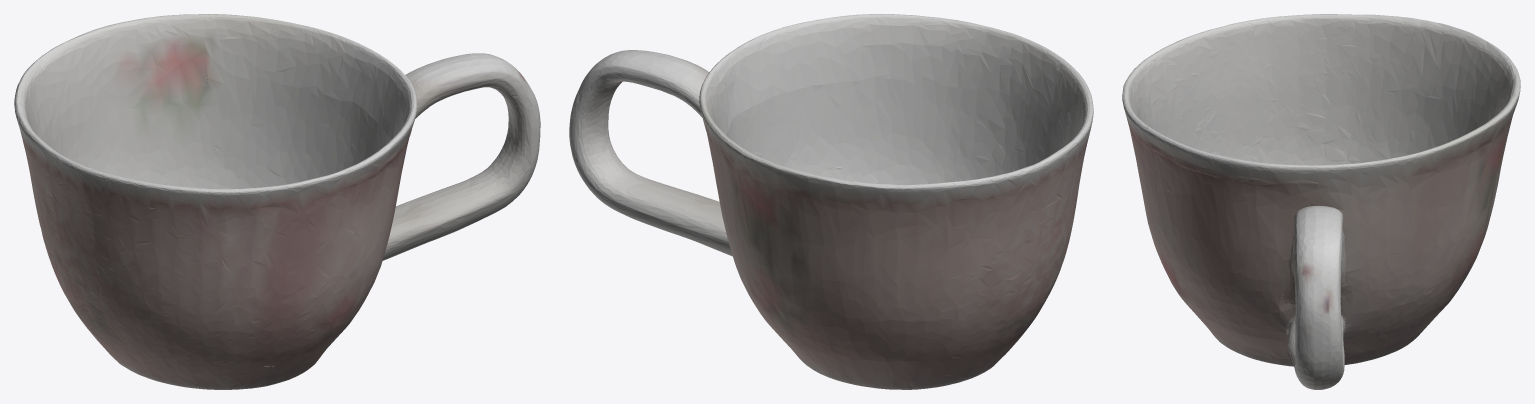
File: kitchen-teacup.glb
The picture shows the model from 3 angles, left to right: view 1: azimuth 30°, elevation 25°; view 2: azimuth 150°, elevation 25°; view 3: azimuth 270°, elevation 25°; orthographic projection. The views are drawn at different scales.
Visible parts, largest first — view 1: orient; view 2: orient; view 3: orient.
Part boxes in pixels (box(x1,y1,x2,y2)): orient: box(14, 14, 540, 389); orient: box(569, 14, 1093, 389); orient: box(1122, 14, 1520, 389).
Bounding box in the file's own units: 0.9996 × 0.4888 × 0.7227.
